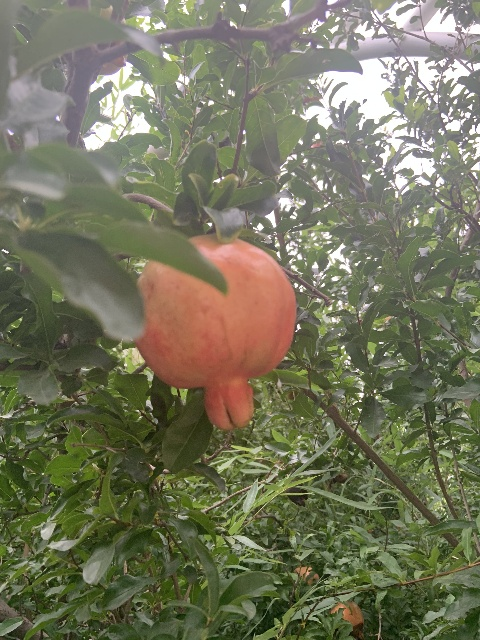ripe: (133, 236, 296, 430)
